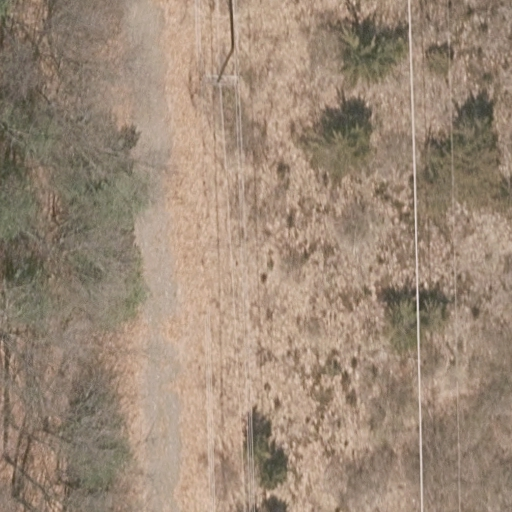DT: (199, 50, 237, 87)
